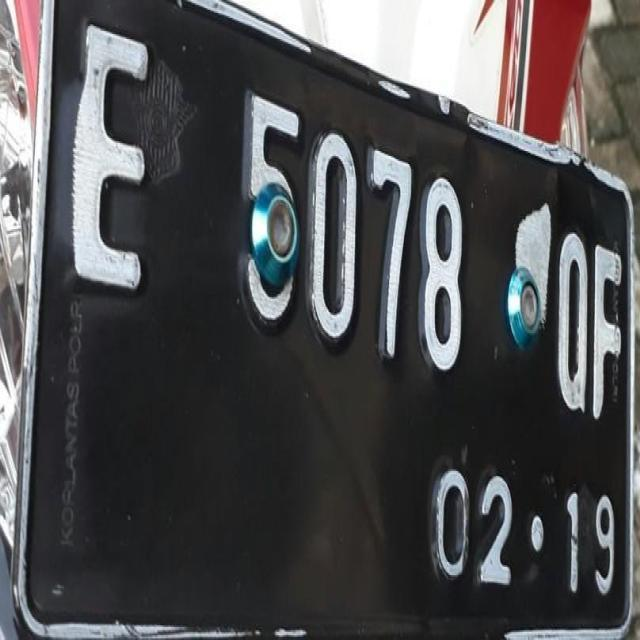0: (301, 110, 362, 361)
5: (226, 89, 309, 354)
7: (353, 125, 420, 390)
8: (411, 146, 473, 408)
E: (48, 0, 165, 301)
F: (588, 227, 627, 437)
Q: (550, 215, 593, 426)
